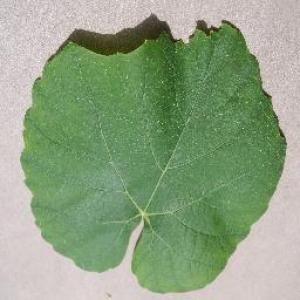Folha: (19, 13, 287, 294)
